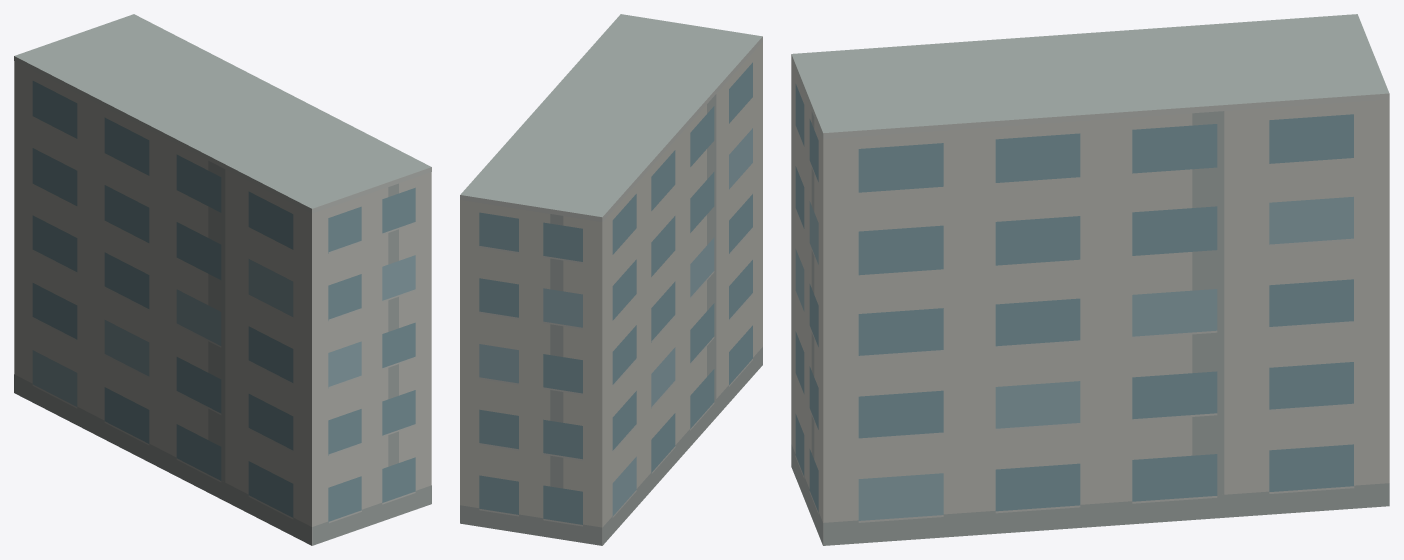
Rendered from survey-upis-32938464.glb.
The picture shows the model from 3 angles, left to right: view 1: azimuth 30°, elevation 25°; view 2: azimuth 150°, elevation 25°; view 3: azimuth 270°, elevation 25°; orthographic projection. The views are drawn at different scales.
Visible parts, largest first — view 1: survey-upis-32938464.tmp; view 2: survey-upis-32938464.tmp; view 3: survey-upis-32938464.tmp.
Part boxes in pixels (x1,y1,x2,y2): survey-upis-32938464.tmp: (14, 14, 431, 545); survey-upis-32938464.tmp: (460, 14, 762, 545); survey-upis-32938464.tmp: (791, 14, 1389, 545).
Size of the model in its own units: 10.35 by 16.7 by 21.95.
